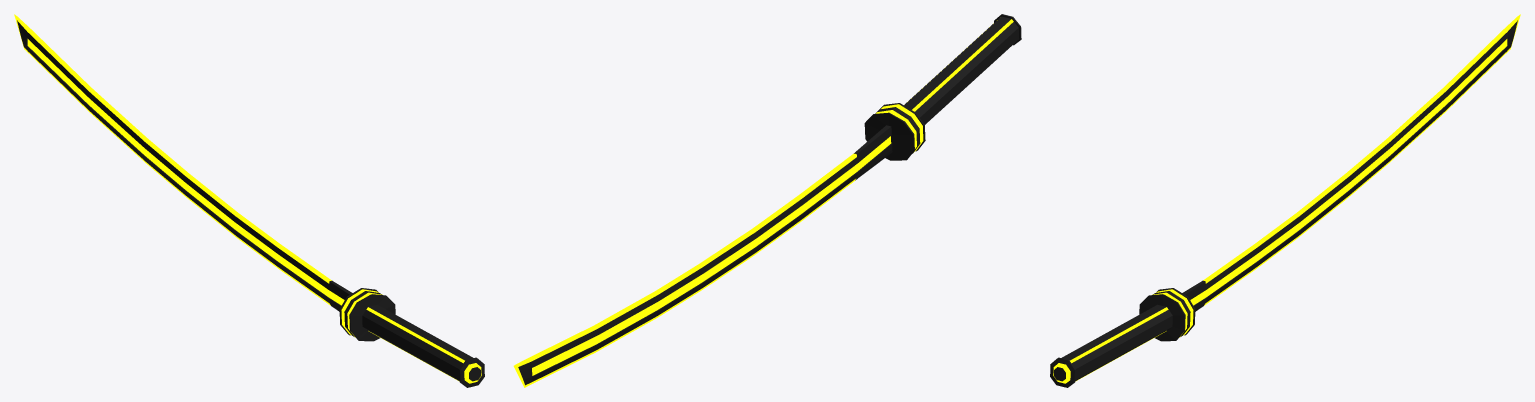
File: hyper_katana 1.fbx
3 views of the same model, side by side, from view 1: azimuth 30°, elevation 25°; view 2: azimuth 150°, elevation 25°; view 3: azimuth 330°, elevation 25° (orthographic). The views are drawn at different scales.
Visible parts, largest first — view 1: Plane.001; view 2: Plane.001; view 3: Plane.001.
Part boxes in pixels (x1=…): Plane.001: x1=14, y1=14, x2=484, y2=387; Plane.001: x1=513, y1=14, x2=1021, y2=387; Plane.001: x1=1050, y1=14, x2=1520, y2=387.
Size of the model in its own units: 22.35 by 30.99 by 396.
